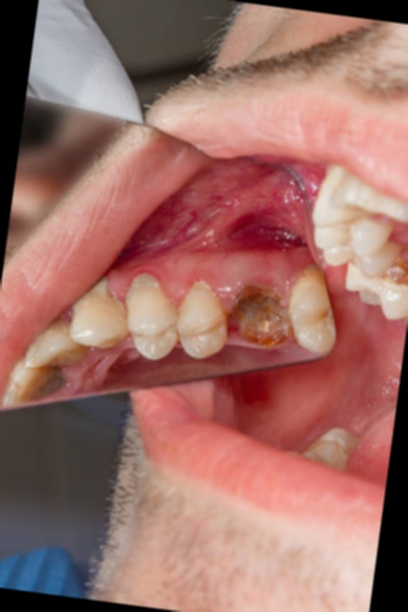Caries: (211, 276, 312, 360), (19, 345, 83, 410), (372, 250, 408, 299)
